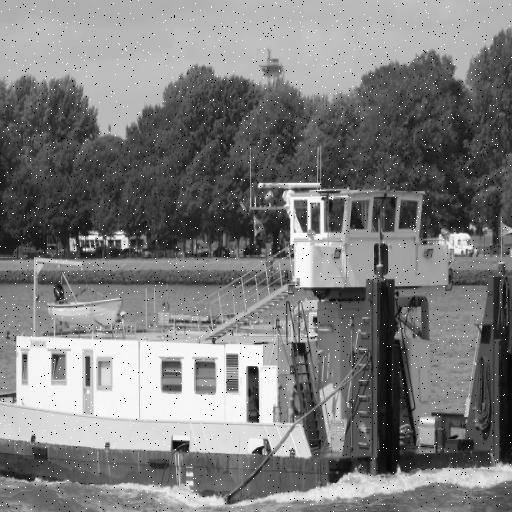tugboat: (1, 177, 512, 512)
